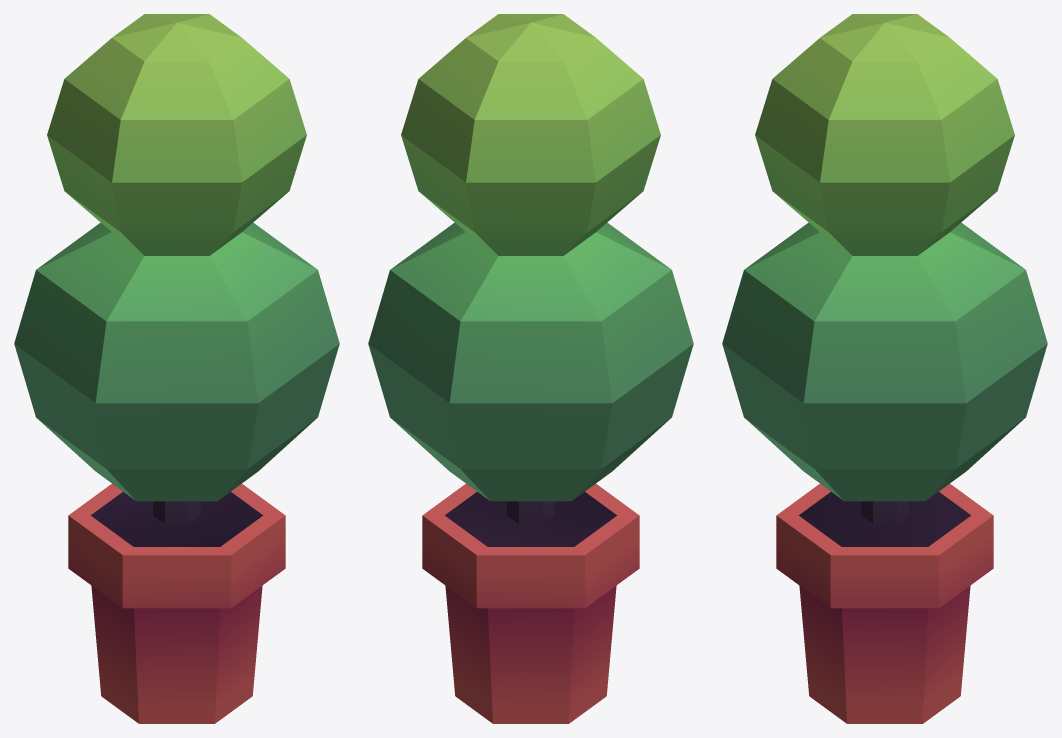
File: bush-2-cut.glb
3 views of the same model, side by side, from view 1: azimuth 30°, elevation 25°; view 2: azimuth 150°, elevation 25°; view 3: azimuth 270°, elevation 25° (orthographic).
Parts seen in each view (by area): view 1: Medium_Bush_cut20, Medium_Bush_sep22, Medium_Bush, Medium_Bush_sep21; view 2: Medium_Bush_cut20, Medium_Bush_sep22, Medium_Bush, Medium_Bush_sep21; view 3: Medium_Bush_cut20, Medium_Bush_sep22, Medium_Bush, Medium_Bush_sep21.
Boxes of the visible parts, left/top/right/bottom form: Medium_Bush_cut20: left=14, top=222, right=339, bottom=501; Medium_Bush_sep22: left=47, top=14, right=306, bottom=255; Medium_Bush: left=68, top=484, right=285, bottom=723; Medium_Bush_sep21: left=153, top=501, right=200, bottom=524; Medium_Bush_cut20: left=368, top=222, right=693, bottom=501; Medium_Bush_sep22: left=401, top=14, right=660, bottom=255; Medium_Bush: left=422, top=484, right=639, bottom=723; Medium_Bush_sep21: left=507, top=501, right=554, bottom=524; Medium_Bush_cut20: left=722, top=222, right=1047, bottom=501; Medium_Bush_sep22: left=755, top=14, right=1014, bottom=255; Medium_Bush: left=776, top=484, right=993, bottom=723; Medium_Bush_sep21: left=861, top=501, right=908, bottom=524.
Bounding box in the file's own units: 1.99 × 5.25 × 2.3.
Materials: 2 (1 with a texture image).
